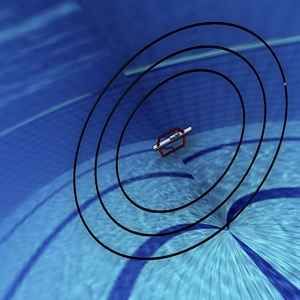circle: (51, 9, 300, 271)
submarine: (147, 114, 192, 165)
